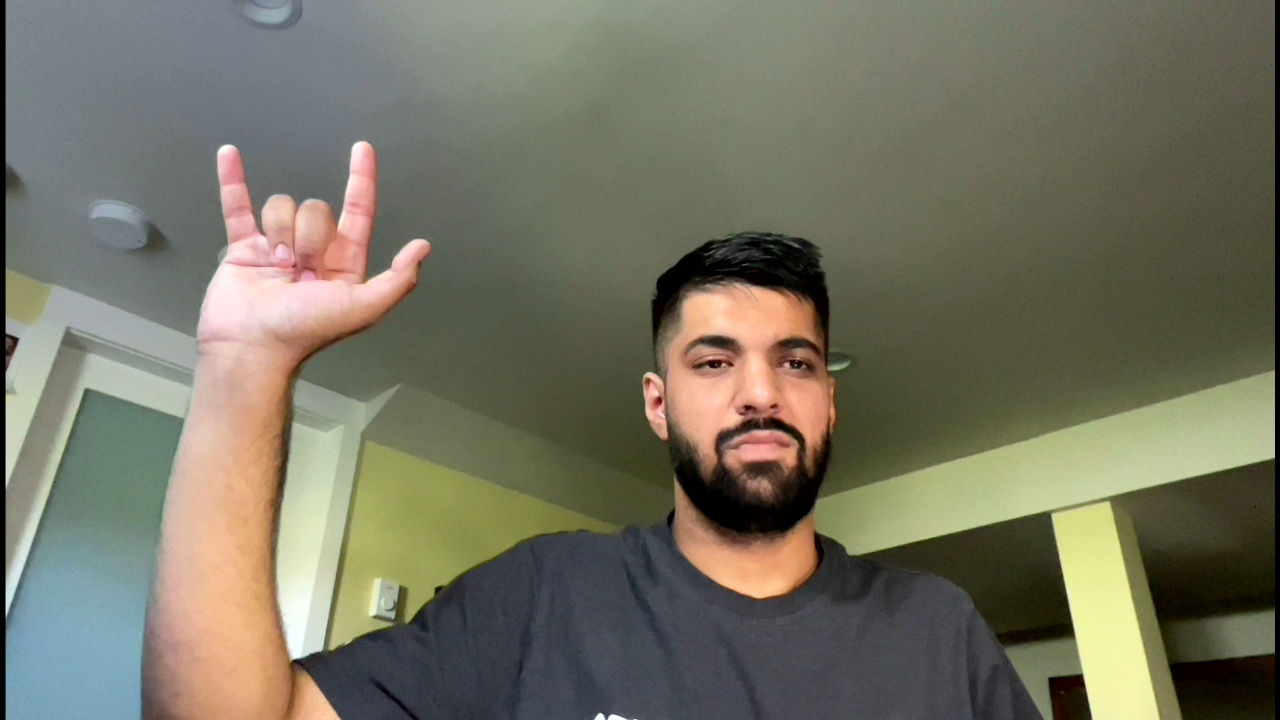HowYouDoing!: (186, 135, 440, 373)
